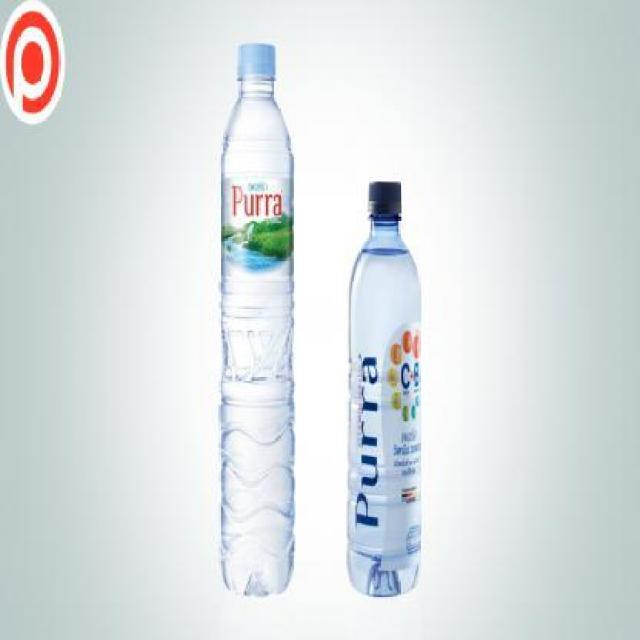bottle: (199, 35, 315, 602)
